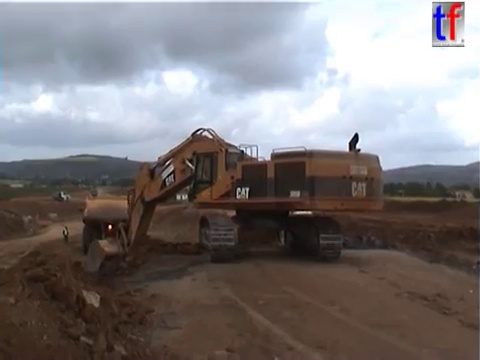excavator: (81, 125, 388, 278)
truck: (77, 192, 143, 257), (186, 184, 208, 205), (50, 190, 73, 203)
worker: (61, 224, 71, 244)
